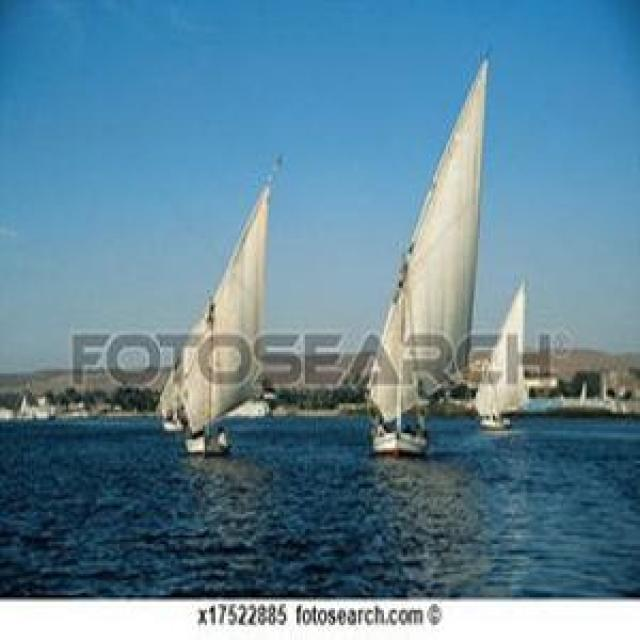sailboat: (362, 47, 494, 457), (172, 149, 284, 458), (478, 273, 534, 429)
